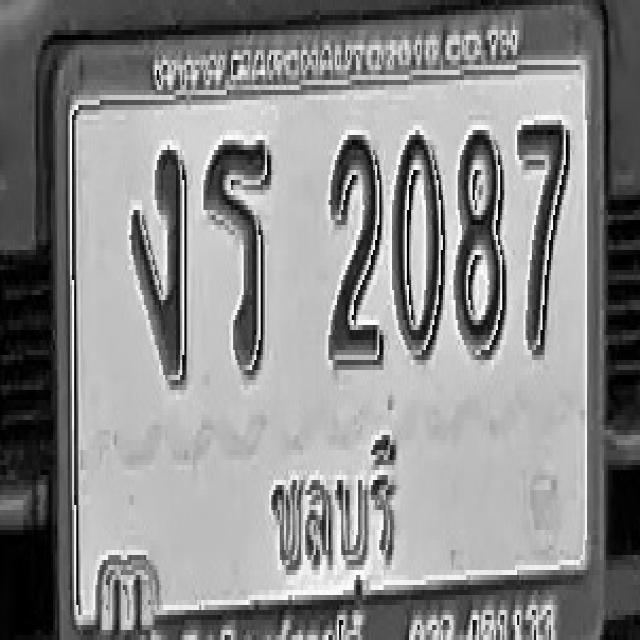0: (393, 130, 444, 360)
16NgorNgu: (130, 145, 188, 385)
2: (328, 130, 384, 365)
44RorRuea: (205, 138, 272, 378)
7: (517, 120, 568, 355)
8: (454, 125, 506, 355)
Chonburi: (264, 425, 397, 599)
